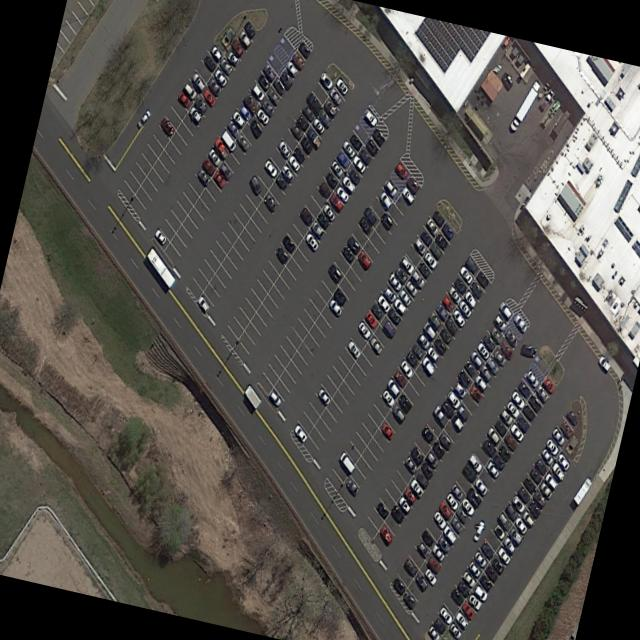large-vehicle: (508, 85, 537, 131), (146, 246, 174, 287), (572, 475, 592, 504), (243, 382, 260, 408)
small-vehicle: (338, 449, 354, 473), (305, 125, 321, 148), (466, 451, 482, 473), (464, 485, 480, 507), (495, 508, 511, 530), (213, 135, 228, 158), (461, 460, 476, 482), (432, 403, 447, 425), (305, 90, 320, 112), (220, 128, 235, 150), (398, 252, 413, 274), (242, 91, 256, 114), (135, 107, 150, 128), (385, 375, 399, 397), (378, 523, 392, 545), (441, 523, 456, 543), (437, 499, 452, 519), (422, 249, 437, 269), (327, 296, 342, 316), (340, 173, 355, 193), (362, 106, 377, 126), (420, 353, 434, 374), (397, 391, 411, 412), (503, 326, 517, 347), (206, 146, 220, 167), (345, 233, 359, 254), (329, 190, 342, 212), (393, 160, 408, 179), (510, 388, 524, 408), (509, 421, 523, 441), (498, 406, 512, 426), (456, 367, 470, 387), (445, 388, 459, 408), (473, 476, 487, 496), (409, 477, 423, 497), (409, 445, 423, 465), (499, 339, 513, 359), (344, 476, 358, 496), (497, 299, 511, 319), (550, 460, 564, 480), (544, 436, 558, 456), (507, 525, 521, 545), (402, 556, 416, 576), (401, 589, 415, 609), (460, 599, 474, 619), (318, 69, 332, 89), (317, 106, 331, 126), (262, 192, 276, 212), (410, 268, 424, 288), (292, 422, 306, 442), (450, 411, 463, 432), (391, 402, 404, 423), (513, 312, 526, 333), (248, 117, 261, 138), (299, 205, 312, 226), (466, 592, 481, 610), (505, 398, 519, 417), (475, 340, 489, 359), (439, 399, 453, 418), (481, 331, 495, 350), (380, 387, 394, 406), (457, 298, 471, 317), (550, 426, 564, 445), (527, 392, 541, 411), (543, 471, 557, 490), (532, 488, 546, 507), (510, 493, 524, 512), (513, 515, 527, 534), (496, 545, 510, 564), (479, 539, 493, 558), (460, 496, 474, 515), (448, 586, 462, 605), (391, 575, 405, 594), (438, 604, 452, 623), (454, 610, 468, 629), (196, 166, 210, 185), (182, 80, 196, 99), (159, 115, 173, 134), (212, 67, 226, 86), (446, 284, 460, 303), (458, 264, 472, 283), (356, 319, 370, 338), (421, 319, 435, 338), (432, 335, 446, 354), (327, 262, 341, 281), (304, 231, 318, 250), (351, 153, 365, 172), (249, 173, 261, 195), (485, 355, 498, 375), (399, 357, 412, 377), (397, 493, 410, 513), (390, 503, 403, 523), (556, 450, 569, 470), (559, 418, 572, 438), (521, 401, 534, 421), (534, 382, 547, 402), (432, 508, 445, 528), (445, 490, 458, 510), (423, 565, 436, 585), (328, 85, 341, 105), (277, 138, 290, 158), (191, 70, 204, 90), (376, 292, 389, 312), (357, 249, 370, 269), (472, 584, 487, 601), (259, 98, 274, 115), (516, 379, 530, 397), (437, 431, 451, 449), (481, 438, 495, 456), (564, 407, 578, 425), (520, 509, 534, 527), (501, 535, 515, 553), (430, 542, 444, 560), (472, 519, 484, 540), (460, 569, 474, 587), (426, 555, 440, 573), (290, 51, 304, 69), (200, 156, 214, 174), (263, 158, 277, 176), (321, 202, 335, 220), (473, 372, 486, 391), (469, 349, 482, 368), (430, 439, 443, 458), (485, 459, 498, 478), (402, 485, 415, 504), (369, 335, 382, 354), (469, 279, 482, 298), (419, 460, 432, 479), (540, 446, 553, 465), (525, 368, 538, 387), (515, 413, 528, 432), (538, 480, 551, 499), (522, 474, 535, 493), (516, 484, 529, 503), (456, 578, 469, 597), (414, 571, 427, 590), (323, 97, 336, 116), (237, 28, 250, 47), (280, 163, 293, 182), (341, 138, 354, 157), (235, 132, 248, 151), (218, 55, 231, 74), (394, 264, 407, 283), (412, 235, 425, 254), (444, 315, 457, 334), (427, 309, 440, 328), (346, 338, 359, 357), (332, 286, 345, 305), (310, 219, 323, 238), (335, 183, 348, 202), (357, 214, 370, 233), (362, 205, 375, 224), (379, 211, 392, 230), (348, 131, 361, 150), (370, 126, 383, 145), (378, 189, 391, 208), (383, 177, 396, 196), (405, 174, 418, 193), (463, 288, 475, 308), (230, 36, 242, 56), (279, 69, 291, 89), (425, 215, 437, 235), (176, 90, 190, 107), (255, 107, 269, 124), (452, 380, 465, 398), (503, 432, 516, 450), (424, 450, 437, 468), (491, 452, 504, 470), (486, 425, 499, 443), (492, 348, 505, 366), (420, 424, 433, 442), (393, 368, 406, 386), (475, 270, 488, 288), (492, 312, 505, 330), (451, 308, 464, 326), (541, 375, 554, 393), (504, 502, 517, 520), (490, 556, 503, 574), (597, 353, 610, 371), (478, 573, 491, 591), (472, 549, 485, 567), (467, 559, 480, 577), (416, 540, 429, 558), (448, 621, 461, 639), (334, 76, 347, 94), (301, 102, 314, 120), (311, 115, 324, 133), (335, 149, 348, 167), (266, 87, 279, 105), (212, 169, 225, 187), (188, 104, 201, 122), (218, 161, 231, 179), (202, 88, 215, 106), (231, 108, 244, 126), (207, 77, 220, 95), (404, 278, 417, 296), (387, 272, 400, 290), (453, 276, 466, 294), (440, 293, 453, 311), (434, 302, 447, 320), (392, 296, 405, 314), (387, 306, 400, 324), (416, 331, 429, 349), (316, 386, 329, 404), (274, 245, 287, 263), (364, 137, 377, 155), (527, 498, 539, 517), (420, 528, 432, 547), (437, 534, 449, 553), (262, 62, 274, 81), (287, 152, 299, 171), (292, 144, 304, 163), (194, 94, 206, 113), (251, 81, 263, 100), (226, 118, 238, 137), (398, 287, 410, 306), (440, 221, 452, 240), (341, 242, 353, 261), (358, 145, 370, 164), (196, 294, 209, 311), (493, 419, 506, 436), (497, 444, 510, 461), (380, 421, 393, 438), (463, 256, 476, 273), (533, 457, 546, 474), (449, 515, 462, 532), (454, 506, 467, 523), (404, 350, 417, 367), (153, 227, 166, 244), (382, 285, 395, 302), (268, 388, 281, 405), (456, 403, 468, 421), (404, 455, 416, 473), (375, 500, 387, 518), (489, 325, 501, 343), (450, 481, 462, 499), (242, 20, 254, 38), (318, 180, 330, 198), (324, 170, 336, 188), (330, 158, 342, 176), (275, 172, 287, 190), (300, 134, 312, 152), (272, 76, 284, 94), (257, 72, 269, 90), (203, 53, 215, 71), (417, 259, 429, 277), (364, 310, 376, 328), (431, 208, 443, 226), (281, 234, 293, 252), (401, 185, 413, 203), (484, 564, 496, 582), (479, 362, 490, 381), (519, 344, 535, 357), (225, 49, 238, 65), (469, 384, 481, 401), (463, 359, 475, 376), (416, 471, 428, 488), (528, 466, 540, 483), (427, 623, 439, 640), (433, 616, 445, 633), (411, 341, 423, 358), (297, 40, 309, 57), (285, 59, 297, 76), (209, 43, 221, 60), (316, 211, 328, 228), (419, 228, 431, 245), (370, 301, 382, 318), (383, 319, 395, 336), (439, 326, 451, 343), (434, 232, 446, 249), (347, 167, 359, 184), (290, 121, 301, 139), (429, 240, 440, 258), (426, 344, 438, 360), (238, 103, 250, 119), (493, 522, 504, 539), (296, 113, 307, 130)
